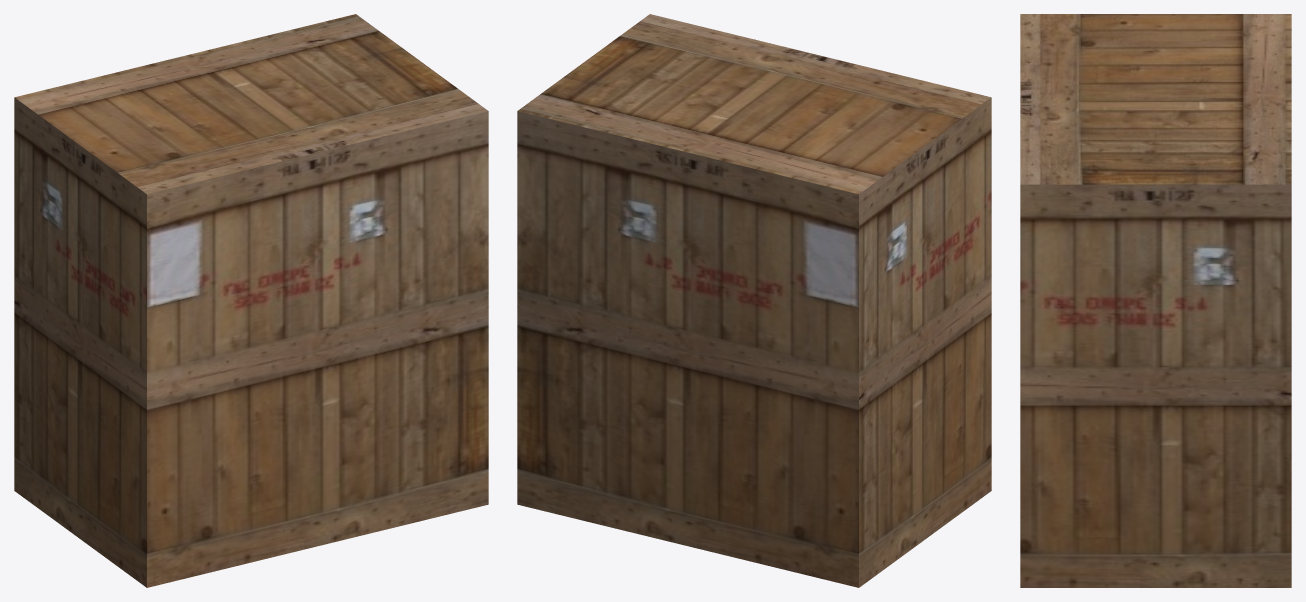
The picture shows the model from 3 angles, left to right: view 1: azimuth 30°, elevation 25°; view 2: azimuth 150°, elevation 25°; view 3: azimuth 270°, elevation 25°; orthographic projection. The views are drawn at different scales.
Parts seen in each view (by area): view 1: C001_Boxs_07_0; view 2: C001_Boxs_07_0; view 3: C001_Boxs_07_0.
Part boxes in pixels (left/top/right/bottom): C001_Boxs_07_0: left=14, top=14, right=488, bottom=587; C001_Boxs_07_0: left=517, top=14, right=991, bottom=587; C001_Boxs_07_0: left=1020, top=14, right=1291, bottom=587.
Bounding box in the file's own units: 1.65 × 1.82 × 1.11.
1 material, 1 textured.
